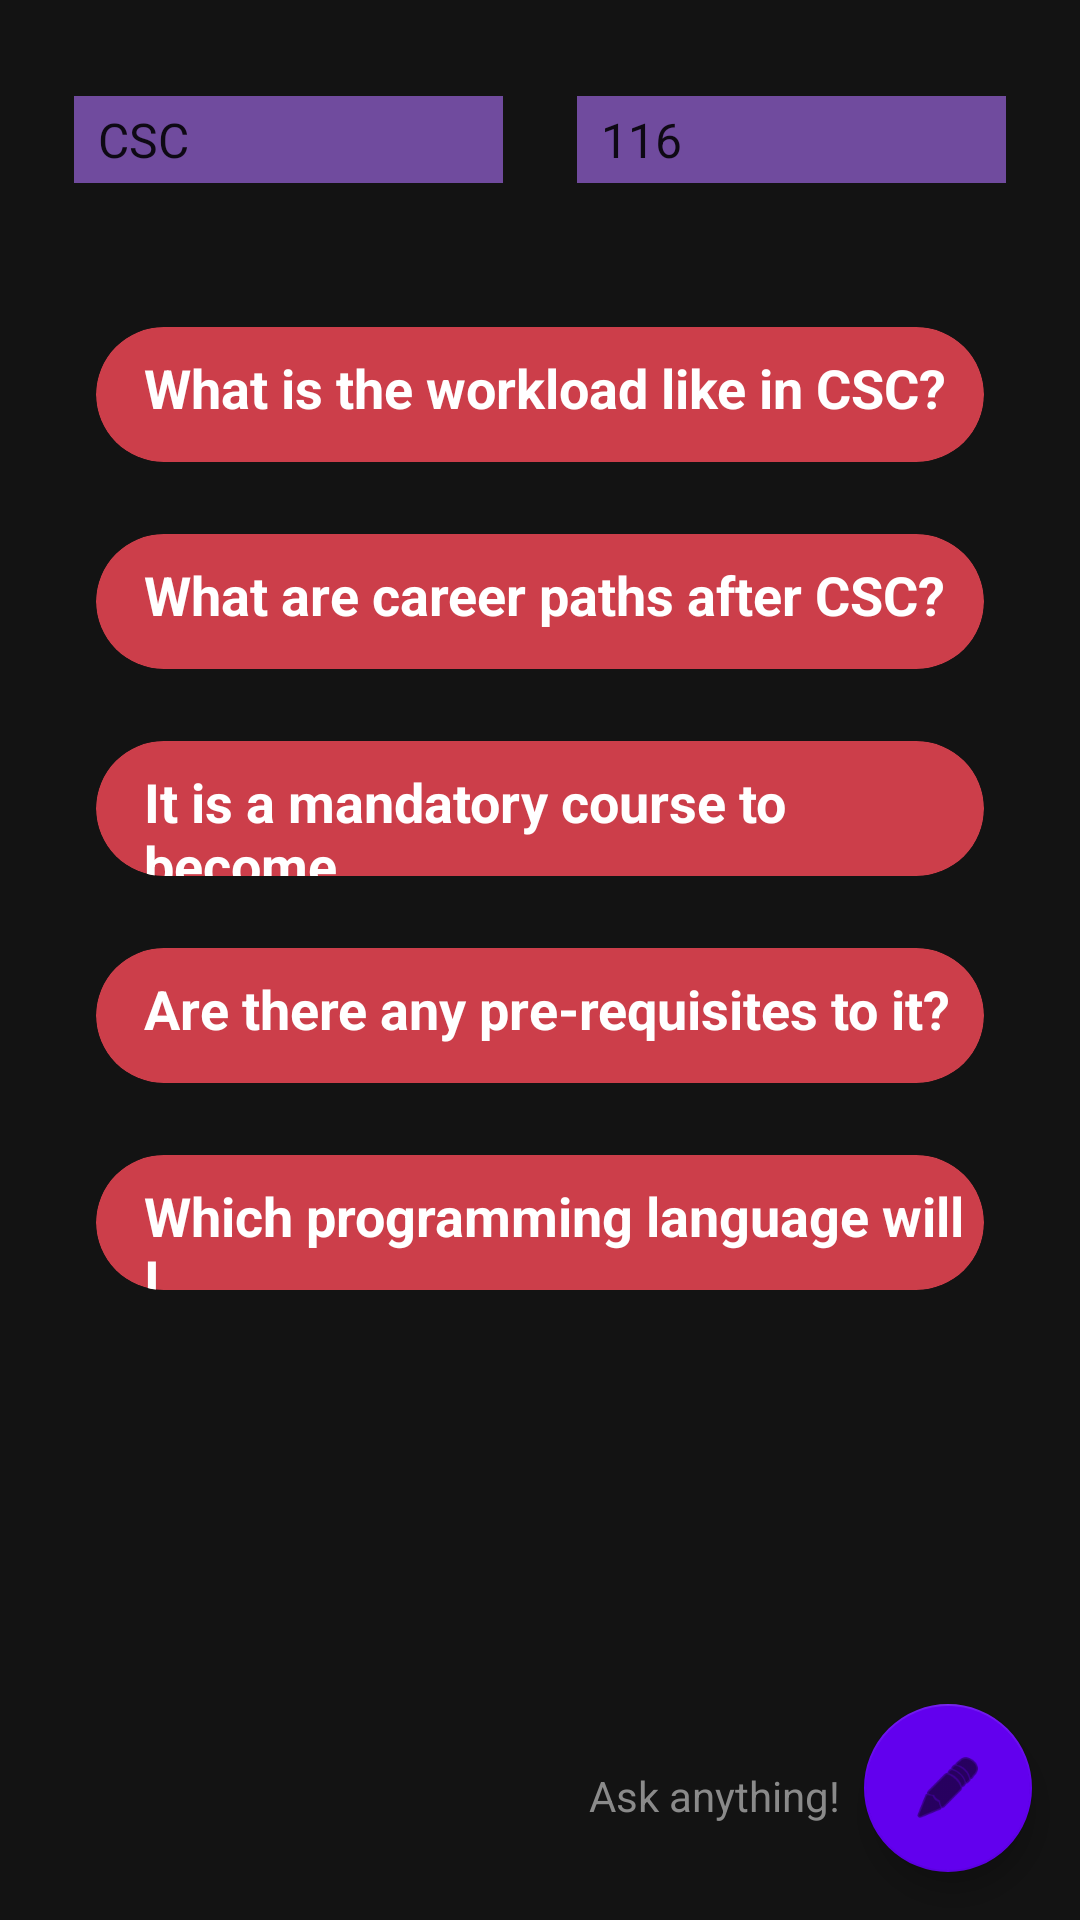

Icons on this 1080px x 1920px Android screen, each with the point to tap as [x,y]:
ask a question: [948,1788]
